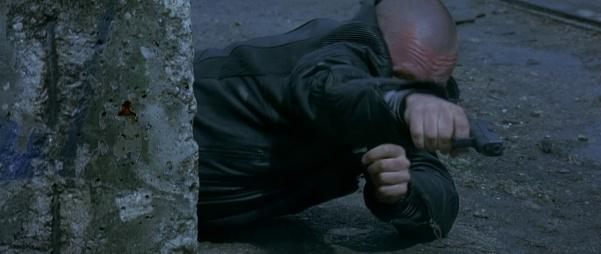Gun: (458, 114, 506, 157)
